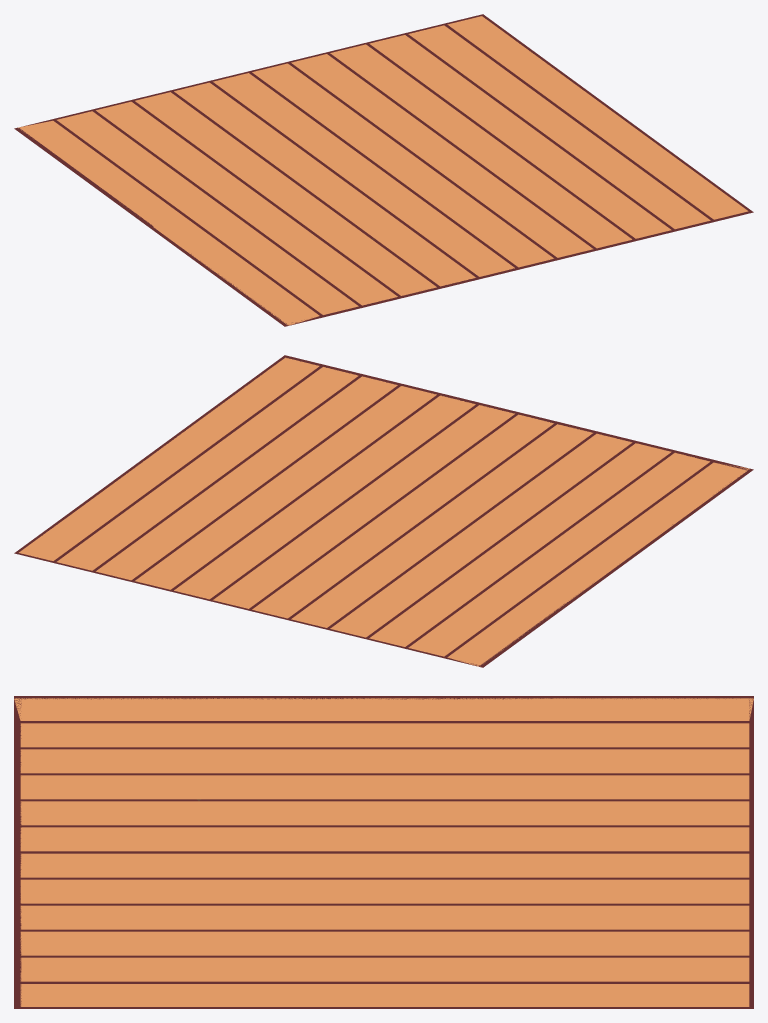
Rendered from 2_japan_floor_2.fbx.
3 renders of one model, top to bottom at view 1: azimuth 30°, elevation 25°; view 2: azimuth 150°, elevation 25°; view 3: azimuth 270°, elevation 25°, orthographic. The views are drawn at different scales.
Parts seen in each view (by area): view 1: 2_japan_floor; view 2: 2_japan_floor; view 3: 2_japan_floor.
Part boxes in pixels (left/top/right/bottom): 2_japan_floor: left=14, top=14, right=753, bottom=326; 2_japan_floor: left=14, top=355, right=753, bottom=667; 2_japan_floor: left=14, top=696, right=753, bottom=1008.
Bounding box in the file's own units: 200 × 3.26e-05 × 200.
